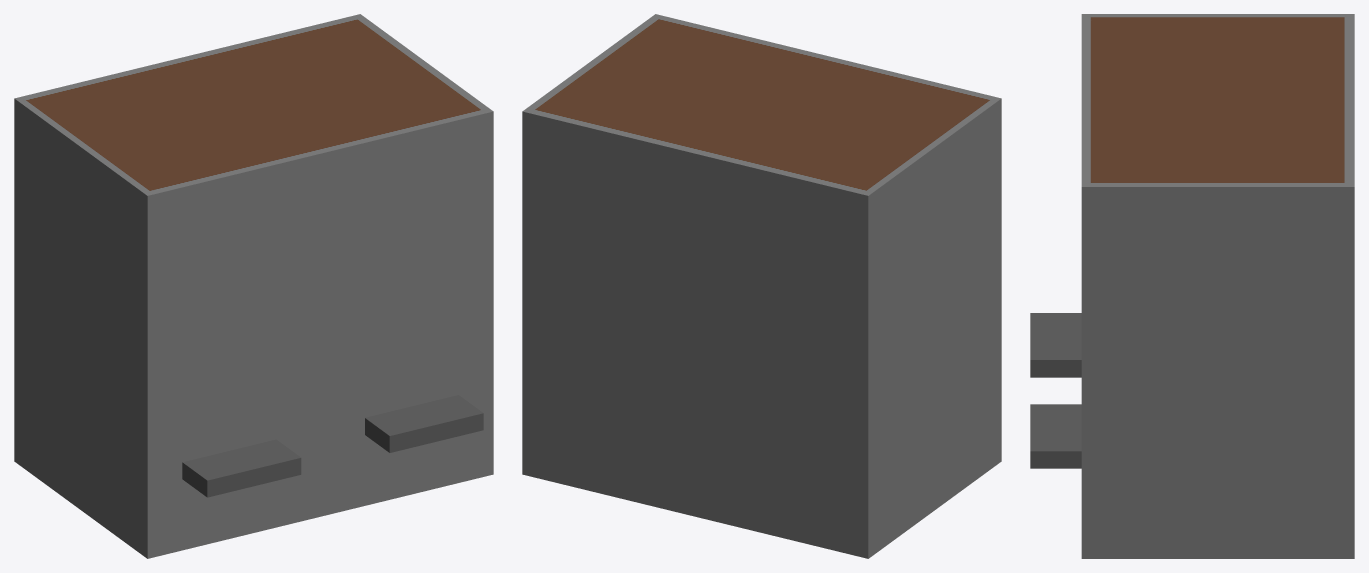
The model's file is Building2.fbx.
3 renders of one model, left to right at view 1: azimuth 30°, elevation 25°; view 2: azimuth 150°, elevation 25°; view 3: azimuth 270°, elevation 25°, orthographic. The views are drawn at different scales.
Visible parts, largest first — view 1: pCube72; view 2: pCube72; view 3: pCube72.
Part boxes in pixels (x1=…): pCube72: x1=14, y1=14, x2=493, y2=558; pCube72: x1=522, y1=14, x2=1001, y2=558; pCube72: x1=1030, y1=14, x2=1354, y2=558.
Bounding box in the file's own units: 3 × 3.01 × 2.37.
